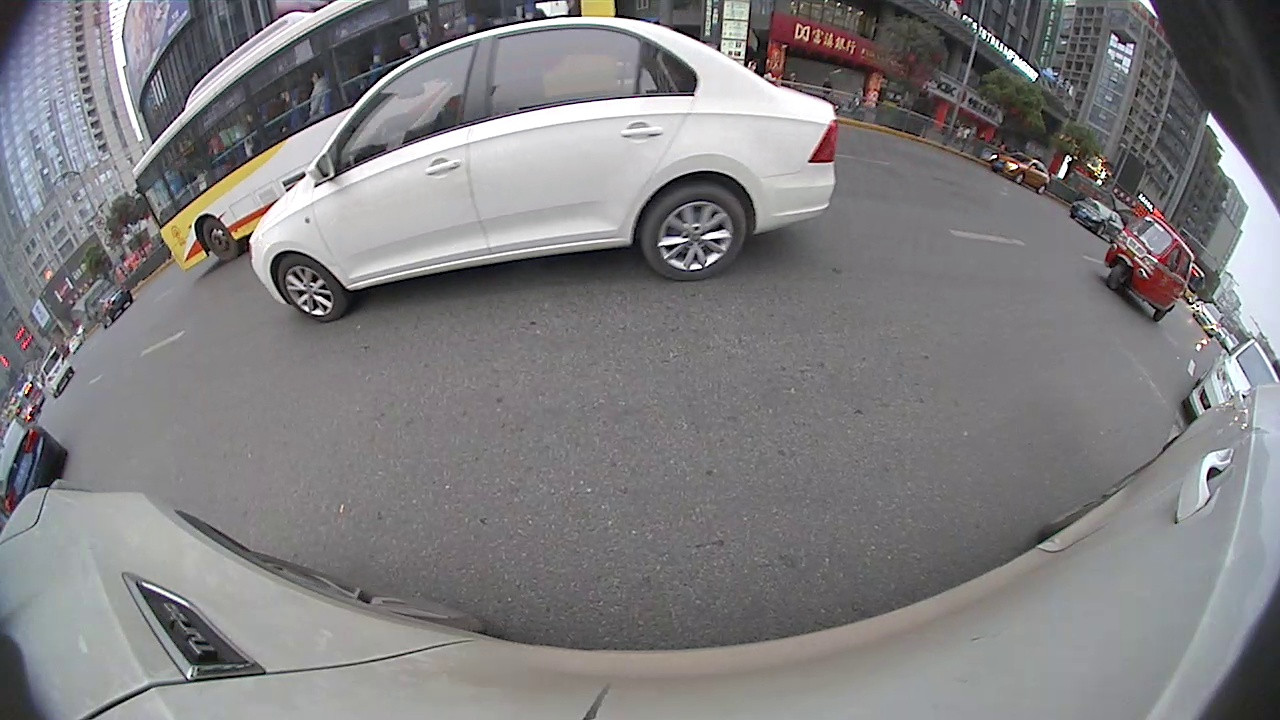bus: (128, 1, 618, 273)
car: (245, 15, 841, 323), (1180, 335, 1279, 420), (1, 414, 70, 521)
front: (275, 251, 352, 324), (201, 217, 241, 265)
rear: (638, 182, 750, 282)
rider: (1100, 212, 1196, 323)
